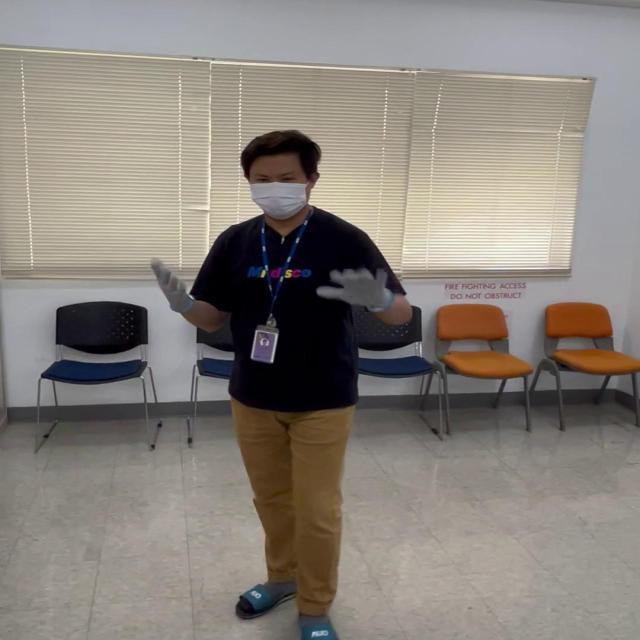gloved_hand: (146, 250, 210, 318), (329, 261, 394, 314)
